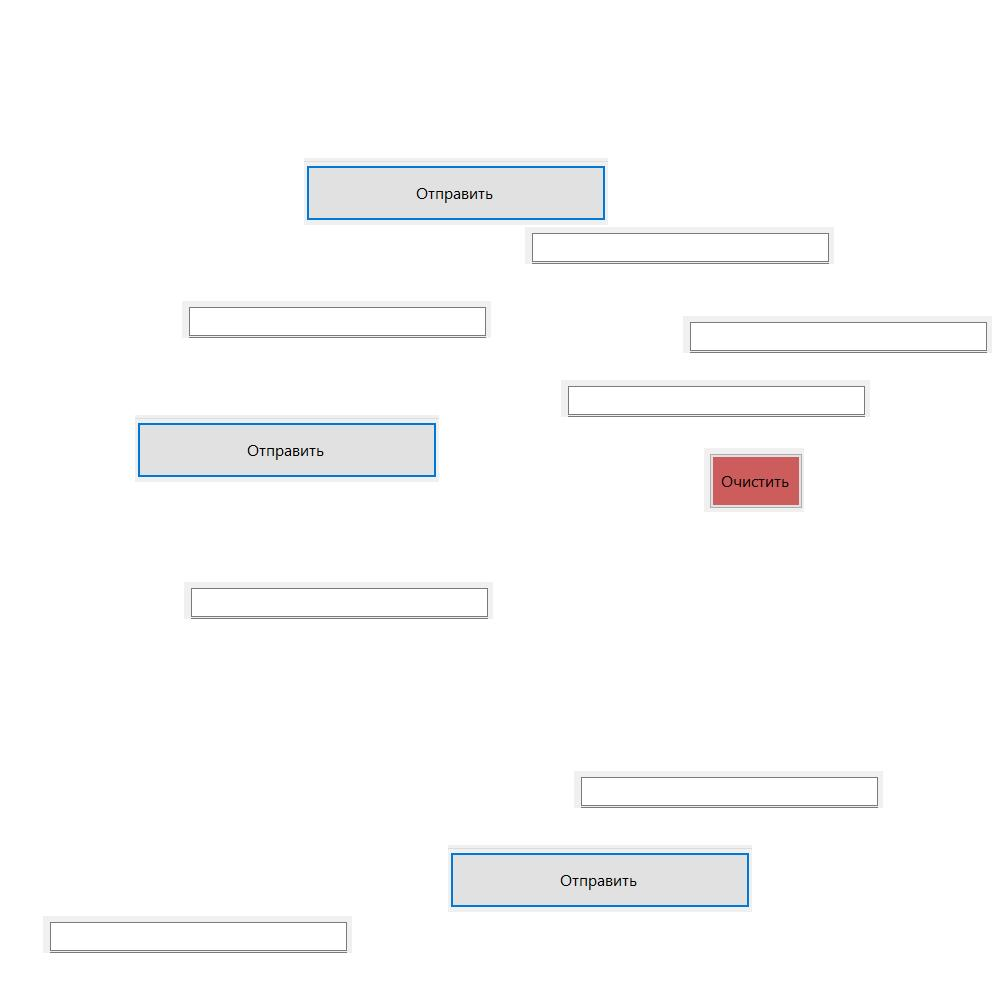Button: (448, 845, 752, 912), (304, 158, 608, 225), (135, 415, 439, 482), (704, 448, 804, 512)
EditText-: (683, 316, 992, 353), (184, 582, 493, 619), (182, 301, 491, 338), (43, 916, 352, 953), (525, 227, 834, 264), (574, 771, 883, 808), (561, 380, 870, 417)
